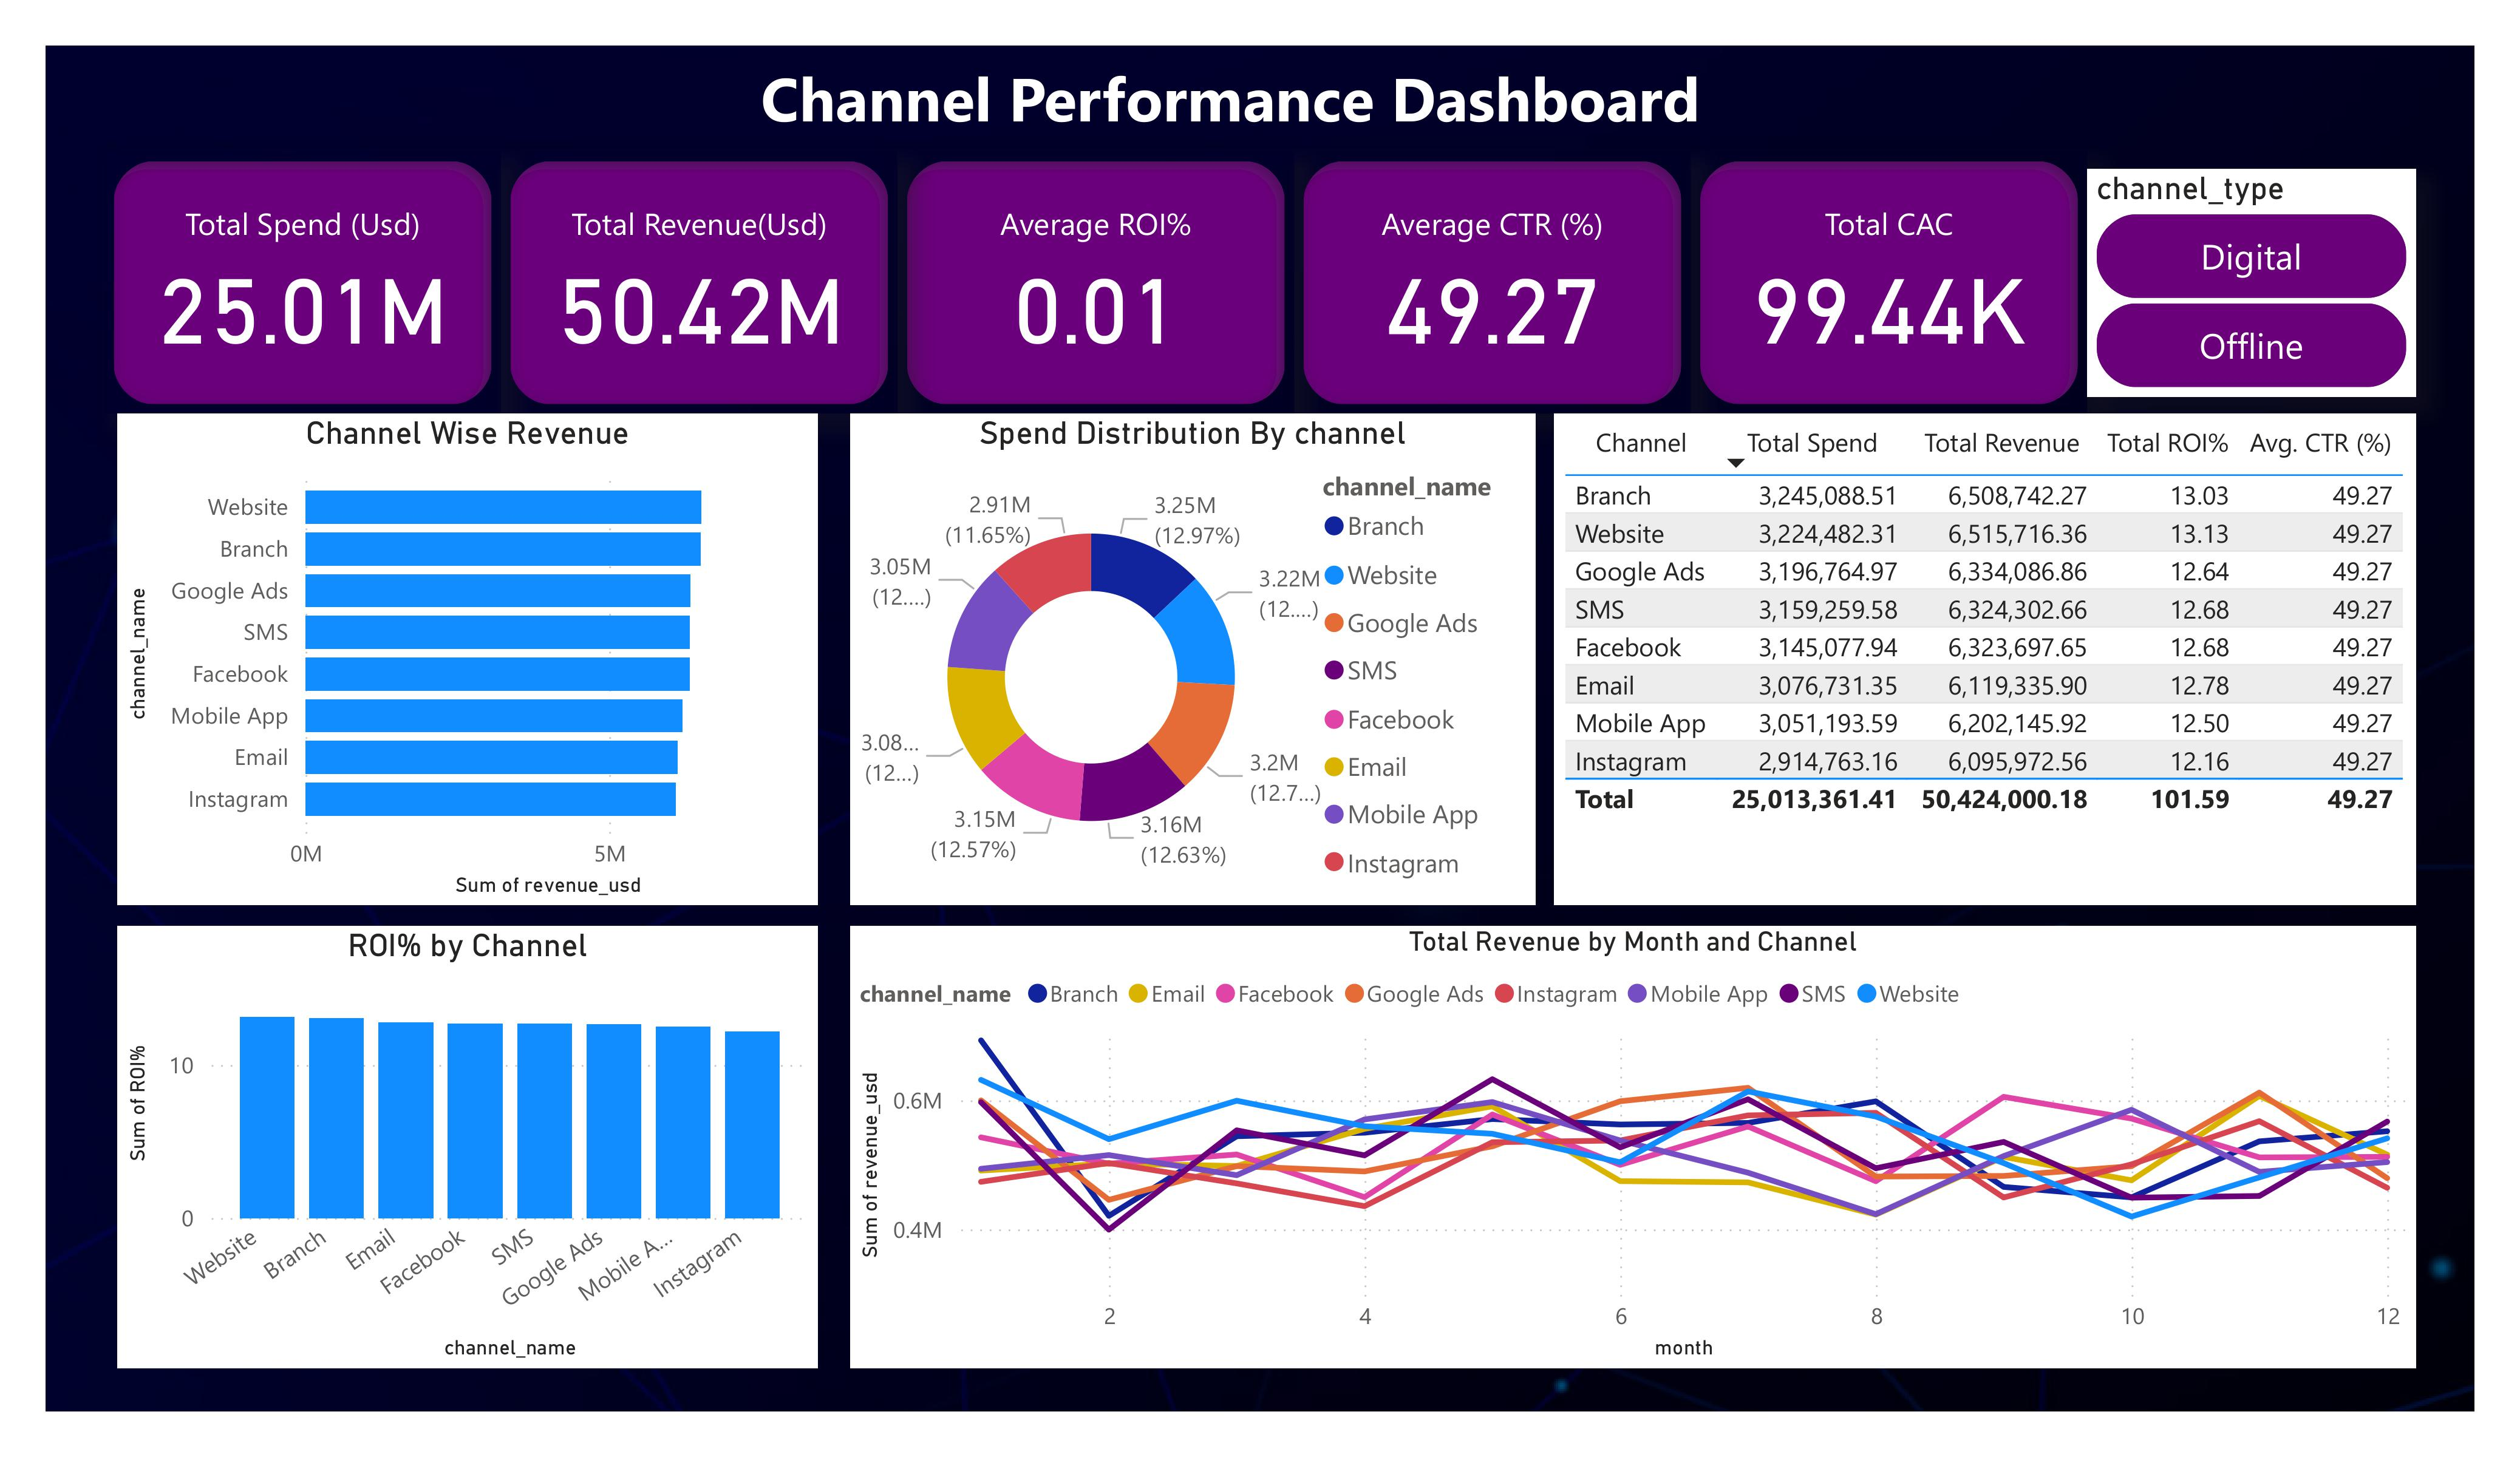

This screenshot's page, from the dashboard's own definition file:
{"tool":"powerbi","page":{"name":"Channel Performance Dashboard ","canvas":[1280,720],"ordinal":1},"visuals":[{"type":"textbox","box":[371.7,0,518.8,56.5],"z":0},{"type":"cardVisual","fields":{"Data":["Sum(Fact_CampaignPerformance.spend_usd)"]},"box":[30.8,56.4,209.1,137.3],"z":1000},{"type":"cardVisual","fields":{"Data":["Avg(Fact_CampaignPerformance.ROI%)"]},"box":[449,56.4,209.1,137.3],"z":2000},{"type":"cardVisual","fields":{"Data":["Sum(Fact_CampaignPerformance.revenue_usd)"]},"box":[239.9,56.4,209.1,137.3],"z":3000},{"type":"cardVisual","fields":{"Data":["Avg(Fact_CampaignPerformance.CTR (%))"]},"box":[658.1,56.4,209.1,137.3],"z":4000},{"type":"cardVisual","fields":{"Data":["Sum(Fact_CampaignPerformance.CAC)"]},"box":[867.2,56.4,209.1,137.3],"z":5000},{"type":"clusteredBarChart","title":"Channel Wise Revenue","fields":{"Category":["Dim_Channels.channel_name"],"Y":["Sum(Fact_CampaignPerformance.revenue_usd)"]},"box":[38.1,193.6,369.1,259.1],"z":6000},{"type":"clusteredColumnChart","title":"ROI% by Channel","fields":{"Category":["Dim_Channels.channel_name"],"Y":["Sum(Fact_CampaignPerformance.ROI%)"]},"box":[38.1,463.6,369.1,233.6],"z":7000},{"type":"lineChart","title":"Total Revenue by Month and Channel","fields":{"Category":["Dim_Date.month"],"Series":["Dim_Channels.channel_name"],"Y":["Sum(Fact_CampaignPerformance.revenue_usd)"]},"box":[423.6,463.6,825.5,233.6],"z":8000},{"type":"donutChart","title":"Spend Distribution By channel","fields":{"Category":["Dim_Channels.channel_name"],"Y":["Sum(Fact_CampaignPerformance.spend_usd)"]},"box":[424.5,193.6,360.9,259.1],"z":9000},{"type":"advancedSlicerVisual","fields":{"Values":["Dim_Channels.channel_type"]},"box":[1076.3,64.5,172.7,120],"z":10000},{"type":"tableEx","fields":{"Values":["Dim_Channels.channel_name","Sum(Fact_CampaignPerformance.spend_usd)","Sum(Fact_CampaignPerformance.revenue_usd)","Sum(Fact_CampaignPerformance.ROI%)","Avg(Fact_CampaignPerformance.CTR (%))"]},"box":[795.4,193.6,453.6,259.1],"z":11000}]}

Visuals, with their boxes on the page's 1280x720 design canvas (x1, y1, x2, y2). These are canvas units, not pixel positions in the 2520x1457 screenshot, which may show the page scaled, cropped or inside an application window:
textbox: 372/0/890/56
cardVisual - Sum(Fact_CampaignPerformance.spend_usd): 31/56/240/194
cardVisual - Avg(Fact_CampaignPerformance.ROI%): 449/56/658/194
cardVisual - Sum(Fact_CampaignPerformance.revenue_usd): 240/56/449/194
cardVisual - Avg(Fact_CampaignPerformance.CTR (%)): 658/56/867/194
cardVisual - Sum(Fact_CampaignPerformance.CAC): 867/56/1076/194
"Channel Wise Revenue" clusteredBarChart: 38/194/407/453
"ROI% by Channel" clusteredColumnChart: 38/464/407/697
"Total Revenue by Month and Channel" lineChart: 424/464/1249/697
"Spend Distribution By channel" donutChart: 424/194/785/453
advancedSlicerVisual - Dim_Channels.channel_type: 1076/64/1249/184
tableEx - Dim_Channels.channel_name x Sum(Fact_CampaignPerformance.spend_usd): 795/194/1249/453
